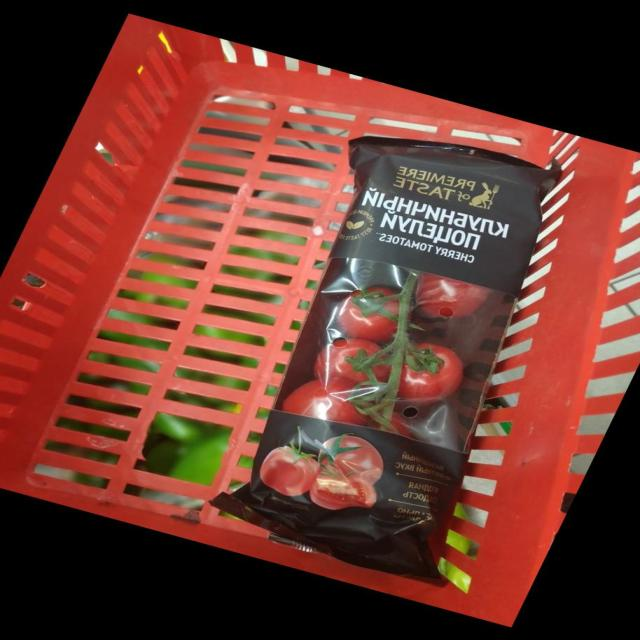Tomatoes: (282, 377, 369, 425), (399, 342, 464, 401), (313, 337, 391, 384), (337, 285, 400, 343), (416, 273, 490, 317), (390, 413, 413, 436)
